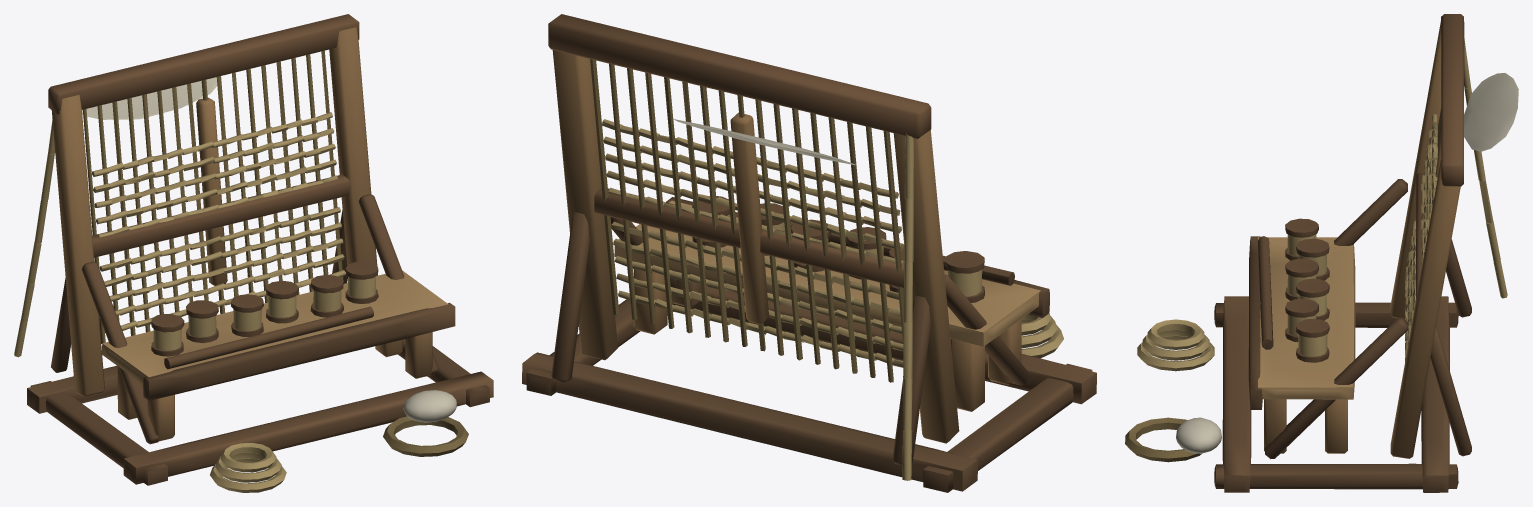
The model's file is loom_frame_a_lod1.glb.
The picture shows the model from 3 angles, left to right: view 1: azimuth 30°, elevation 25°; view 2: azimuth 150°, elevation 25°; view 3: azimuth 270°, elevation 25°; orthographic projection. The views are drawn at different scales.
Parts seen in each view (by area): view 1: Surface.001; view 2: Surface.001; view 3: Surface.001.
Boxes of the visible parts, left/top/right/bottom form: Surface.001: left=14, top=14, right=493, bottom=492; Surface.001: left=522, top=14, right=1096, bottom=492; Surface.001: left=1125, top=14, right=1518, bottom=492.
Bounding box in the file's own units: 5.6 × 4.57 × 5.15.
